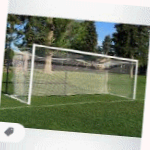goals: (6, 42, 139, 108)
